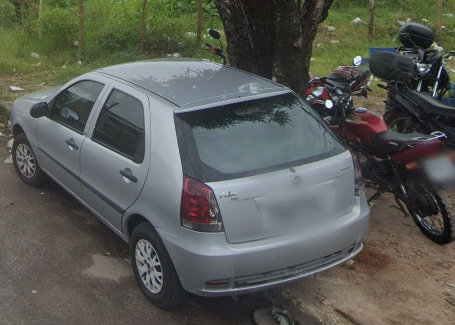car: (8, 57, 375, 303)
